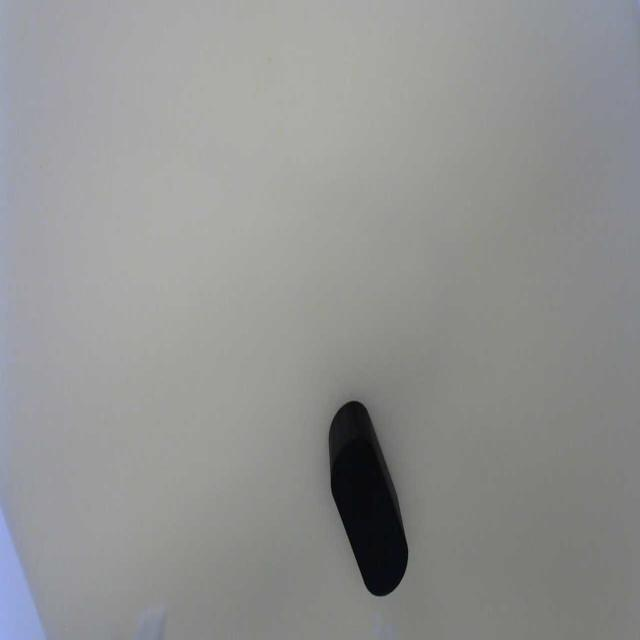oval: (322, 428, 416, 608)
